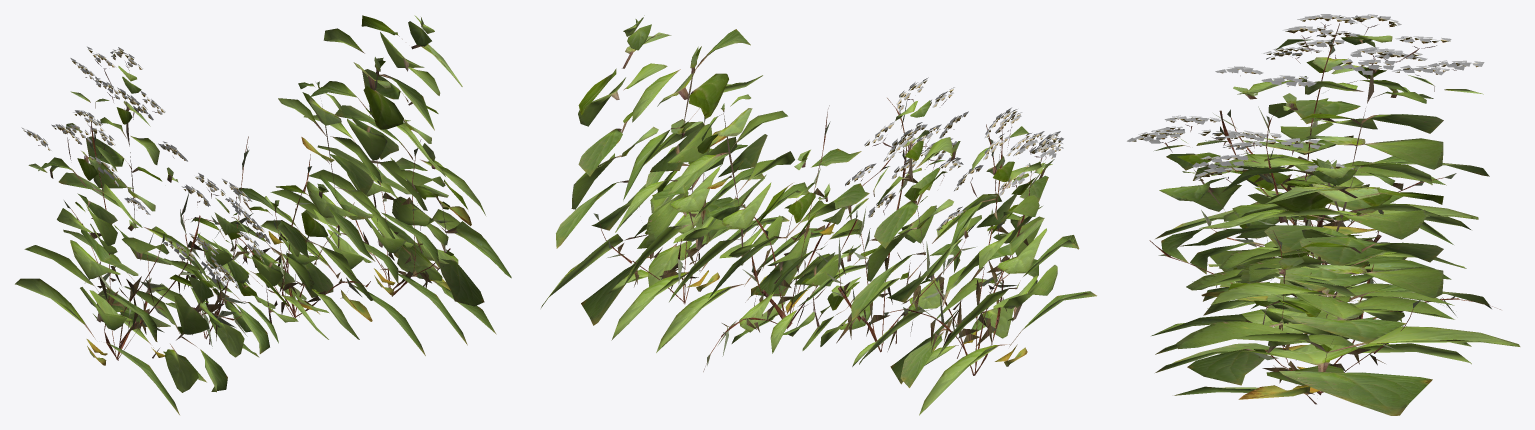
The model's file is v097_yanshan_nature.glb.
The picture shows the model from 3 angles, left to right: view 1: azimuth 30°, elevation 25°; view 2: azimuth 150°, elevation 25°; view 3: azimuth 270°, elevation 25°; orthographic projection. The views are drawn at different scales.
Visible parts, largest first — view 1: yanshan_shrub_a, yanshan_shrub_b; view 2: yanshan_shrub_a, yanshan_shrub_b; view 3: yanshan_shrub_a, yanshan_shrub_b.
Part boxes in pixels (bbox=[...]): yanshan_shrub_a: bbox=[15, 15, 511, 414]; yanshan_shrub_b: bbox=[64, 122, 450, 360]; yanshan_shrub_a: bbox=[541, 15, 1096, 415]; yanshan_shrub_b: bbox=[593, 98, 1043, 375]; yanshan_shrub_a: bbox=[1127, 14, 1520, 415]; yanshan_shrub_b: bbox=[1149, 23, 1500, 395].
Bounding box in the file's own units: 1.65 × 1.24 × 1.64.
2 materials, 2 textured.
